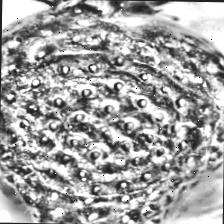Anthracnose Fruit Rot: (0, 38, 219, 203)
